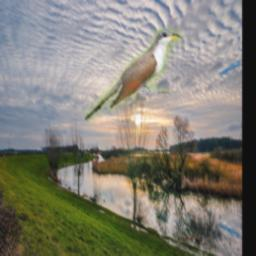Cuckoo: (85, 28, 182, 121)
